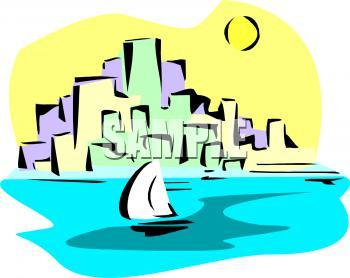boat: (111, 159, 199, 239)
